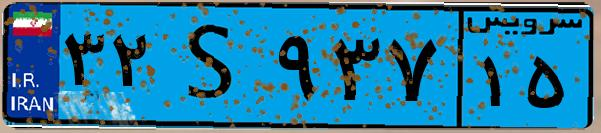1: (475, 38, 525, 113)
2: (110, 28, 158, 98)
3: (330, 28, 385, 110), (57, 26, 110, 100)
5: (525, 38, 570, 115)
7: (385, 28, 445, 110)
9: (270, 28, 330, 110)
S: (158, 12, 270, 120)
